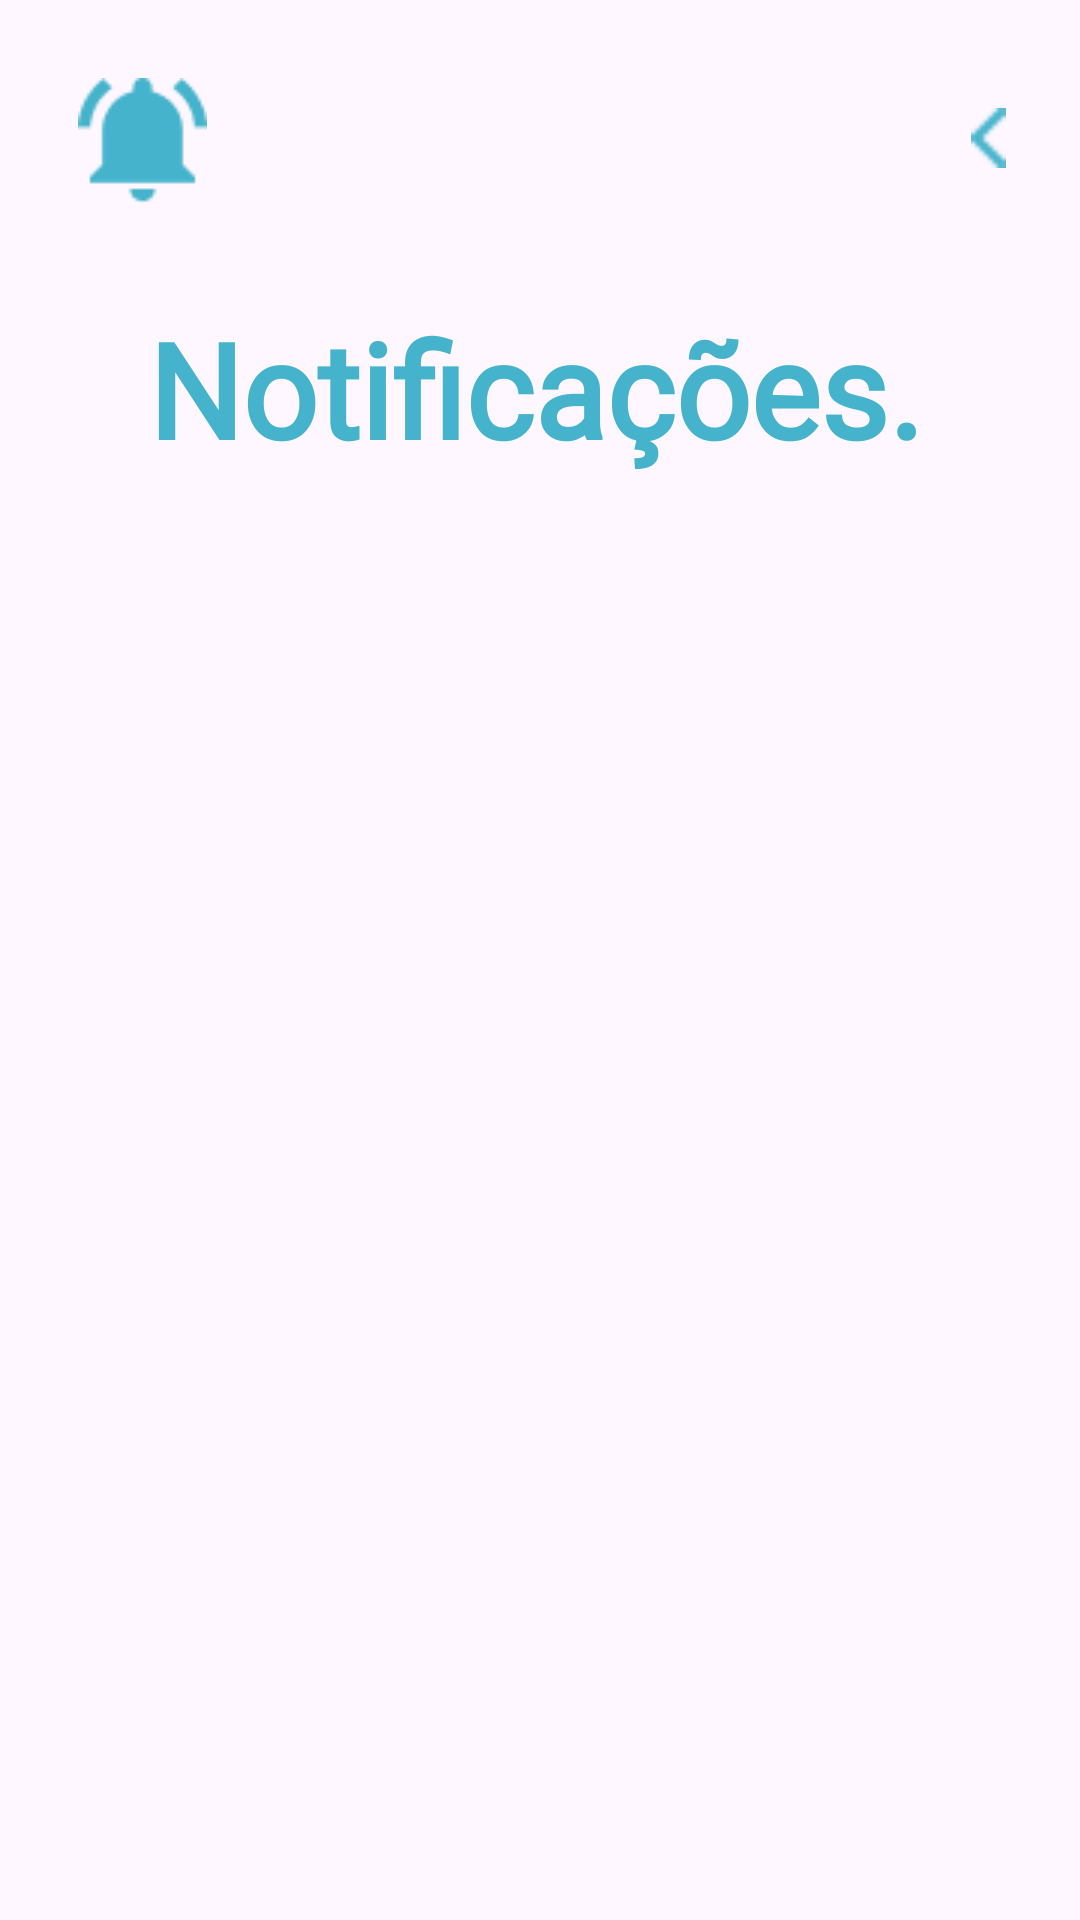

Where icons sit on this 1080×1920 app screen, as rect(x1, y1, x2, y2):
setavector: rect(971, 108, 1006, 168)
